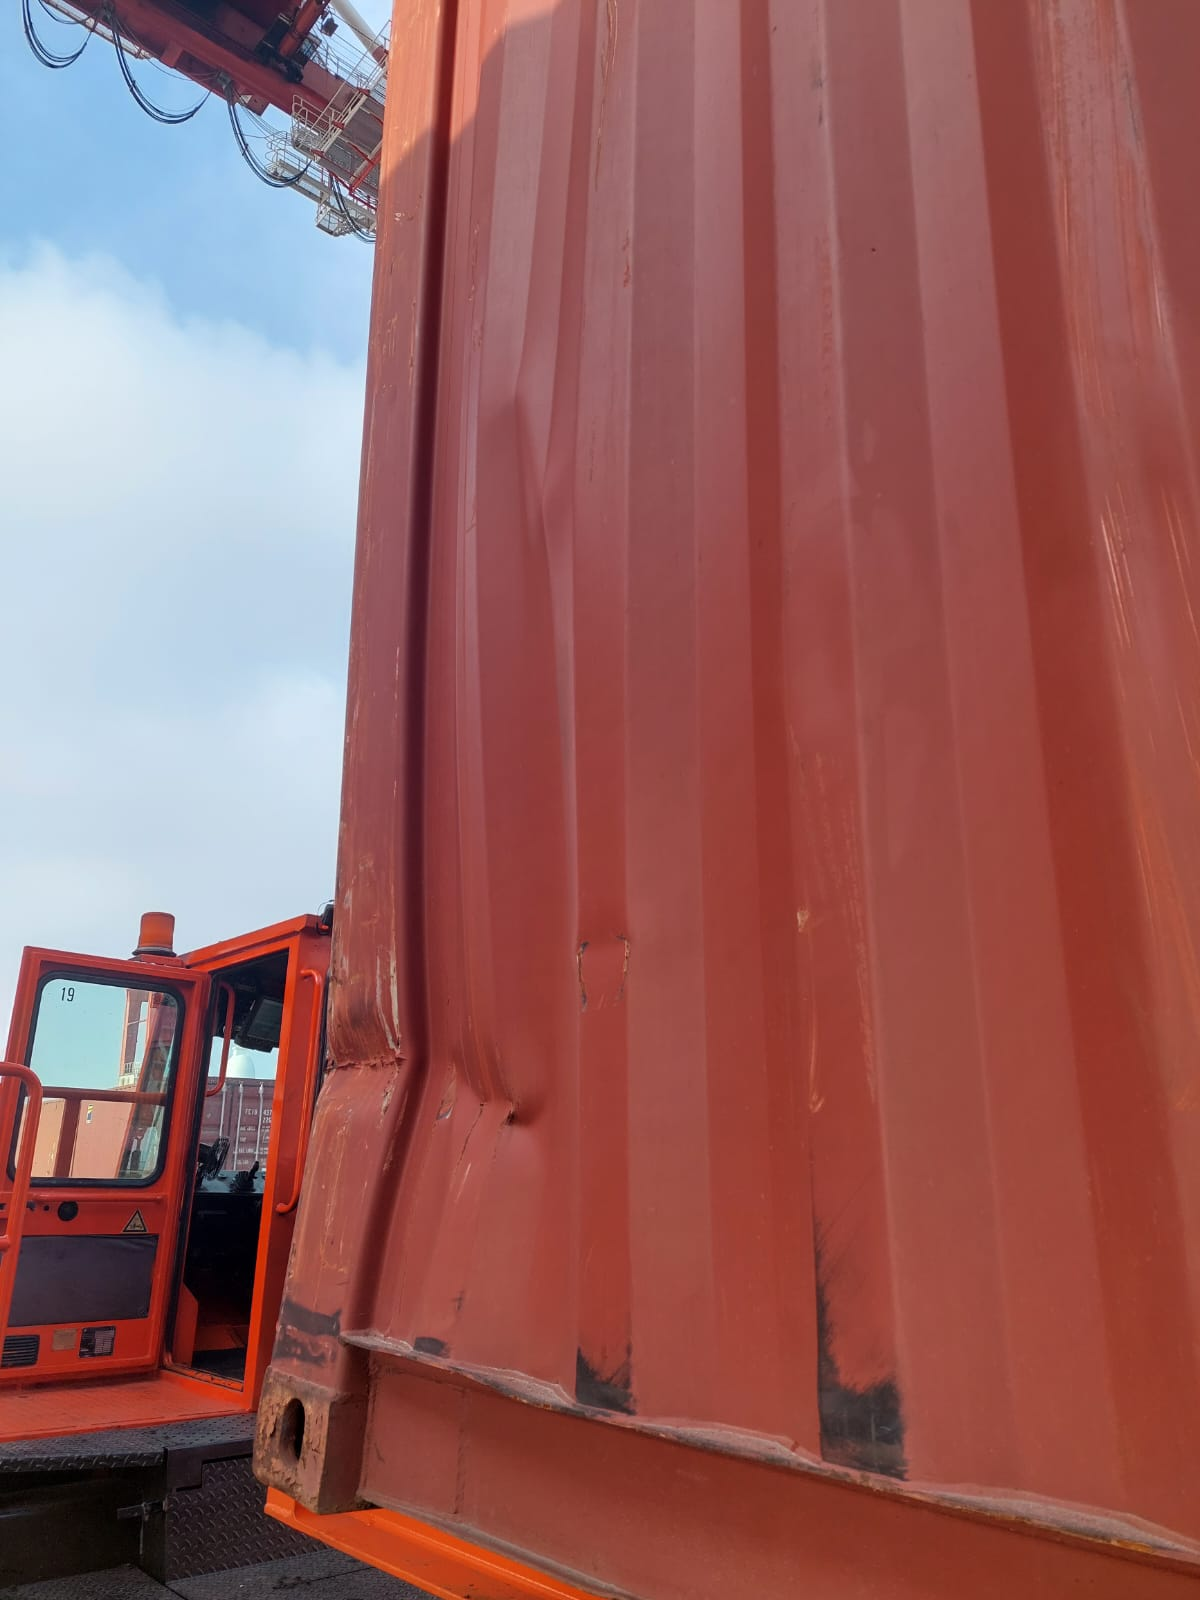moderate: (285, 916, 592, 1249)
